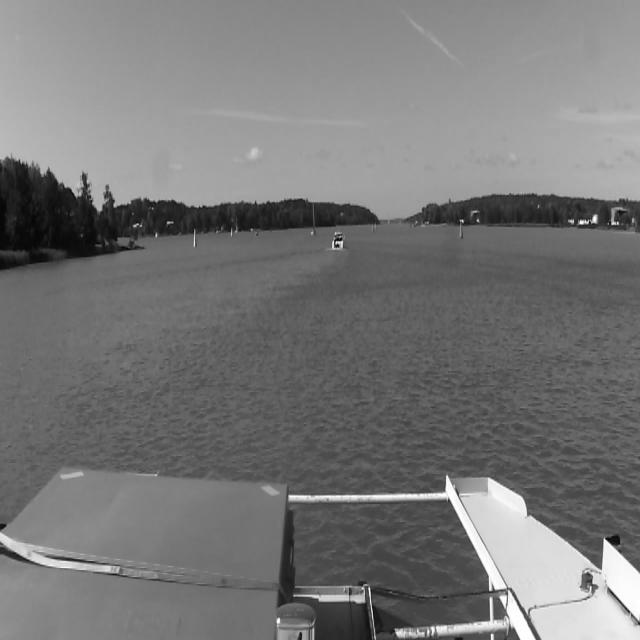buoy: (193, 228, 197, 248), (459, 221, 463, 239), (371, 223, 375, 234), (230, 228, 233, 238)
ship: (331, 231, 345, 251), (310, 202, 316, 235)
